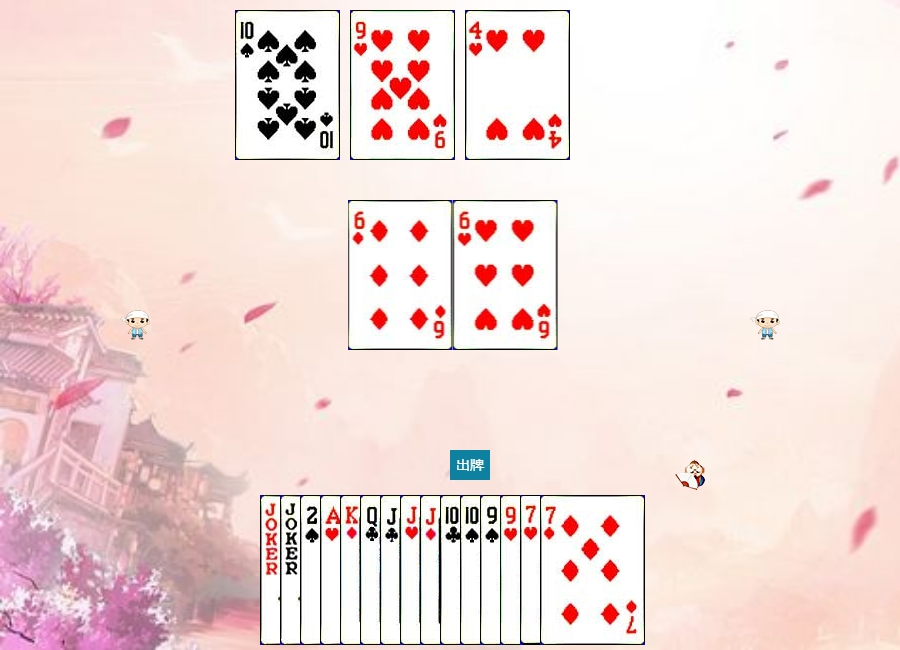10~2: (440, 495, 545, 645)
10~4: (235, 10, 340, 160), (460, 495, 565, 645)
11~1: (420, 495, 525, 645)
11~2: (380, 495, 485, 645)
11~3: (400, 495, 505, 645)
12~2: (360, 495, 465, 645)
13~1: (340, 495, 445, 645)
14~3: (320, 495, 425, 645)
15~4: (300, 495, 405, 645)
17~3: (280, 495, 385, 645)
18~4: (260, 495, 365, 645)
4~3: (465, 10, 570, 160)
6~1: (348, 200, 453, 350)
6~3: (453, 200, 558, 350)
7~1: (540, 495, 645, 645)
7~3: (520, 495, 625, 645)
9~3: (350, 10, 455, 160), (500, 495, 605, 645)
9~4: (480, 495, 585, 645)
